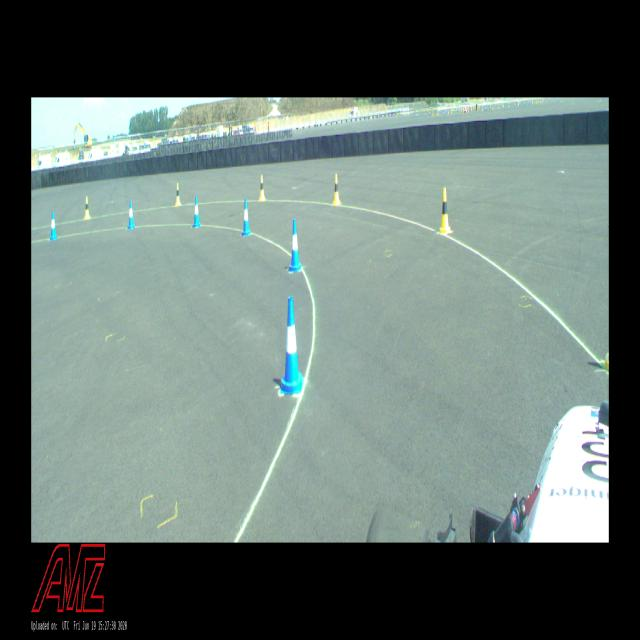blue_cone: (279, 296, 305, 394), (288, 219, 302, 273), (241, 198, 251, 237), (193, 196, 201, 228), (128, 200, 135, 230), (50, 211, 57, 240)
yellow_cone: (438, 188, 452, 235), (333, 174, 341, 205), (259, 175, 266, 201), (84, 196, 90, 219), (176, 183, 182, 206)
